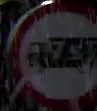Heavy Vehicles: (7, 3, 96, 103)
